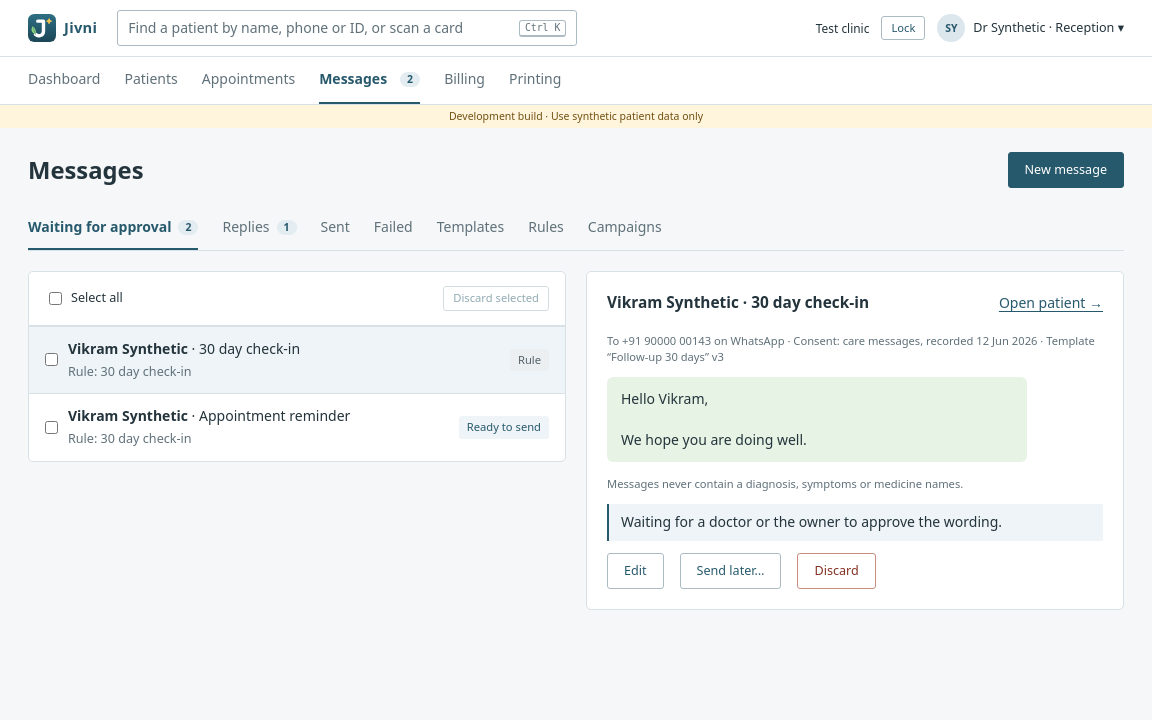
Test case: messages › lets the front desk send what was approved, but not approve
The image size is (1152, 720).
expect the text "Waiting for a doctor or the owner to approve the wording." is shown: met, box [607,504,1103,541]
Click the button "Appointment reminder": (258, 427) [68,406,449,449]
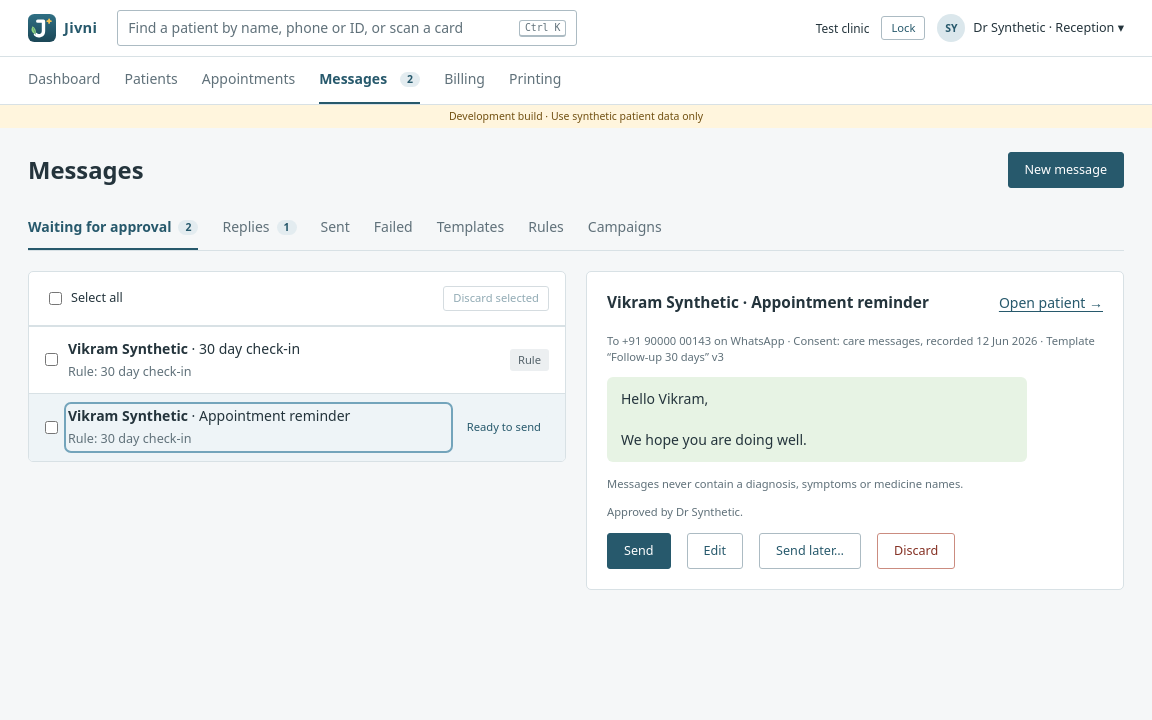
expect the button "Send" is enabled: met, box [607,532,670,569]
expect the text "Approved by Dr Synthetic." is shown: met, box [607,504,743,519]
